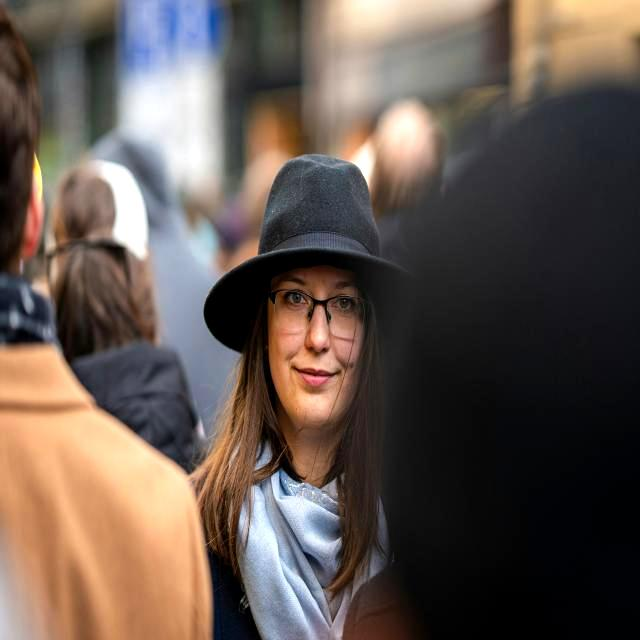no_hard_hat: (204, 154, 407, 352), (53, 138, 171, 248)
no_head_wear: (0, 4, 41, 269), (369, 99, 445, 220)
person: (1, 2, 200, 640), (196, 155, 398, 640), (48, 160, 205, 473), (378, 103, 464, 231)
